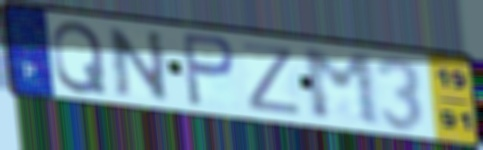3: (374, 53, 428, 136)
M: (298, 47, 385, 129)
N: (104, 25, 172, 105)
P: (178, 30, 239, 111)
Q: (49, 19, 109, 96)
Z: (239, 40, 306, 118)
